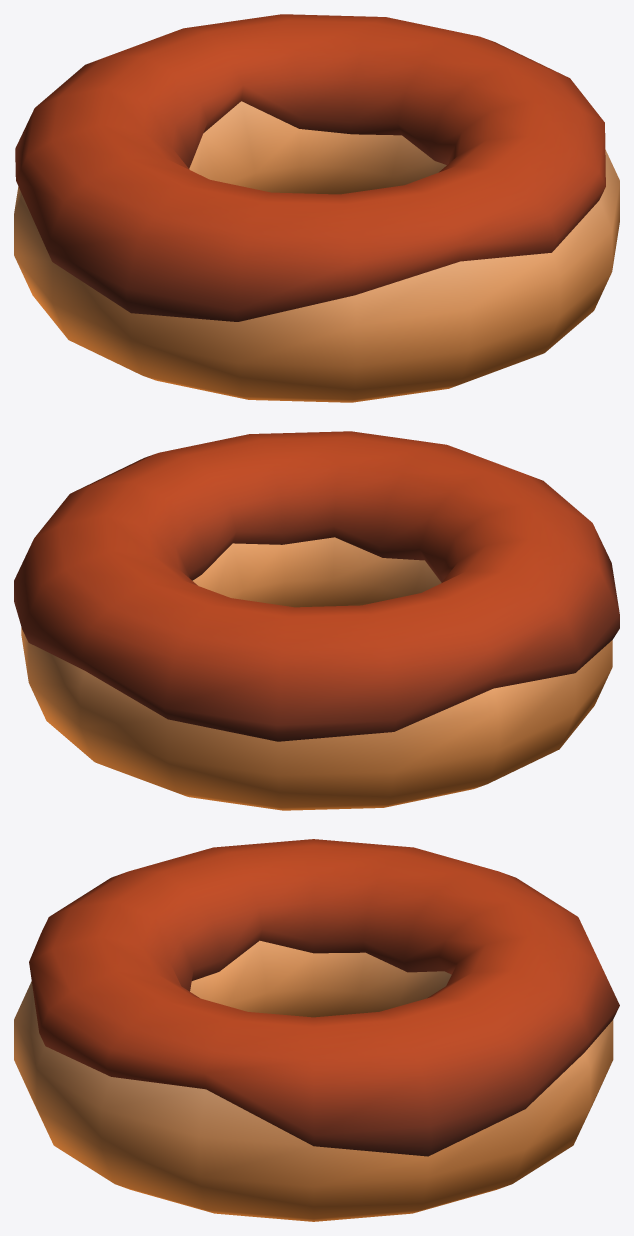
Rendered from donut_002.fbx.
3 renders of one model, top to bottom at view 1: azimuth 30°, elevation 25°; view 2: azimuth 150°, elevation 25°; view 3: azimuth 270°, elevation 25°, orthographic. The views are drawn at different scales.
Visible parts, largest first — view 1: donut_002; view 2: donut_002; view 3: donut_002.
Part boxes in pixels (x1,y1,x2,y2): donut_002: [14, 14, 619, 402]; donut_002: [14, 431, 619, 810]; donut_002: [14, 839, 619, 1221].
Bounding box in the file's own units: 10.67 × 10.55 × 3.63.
